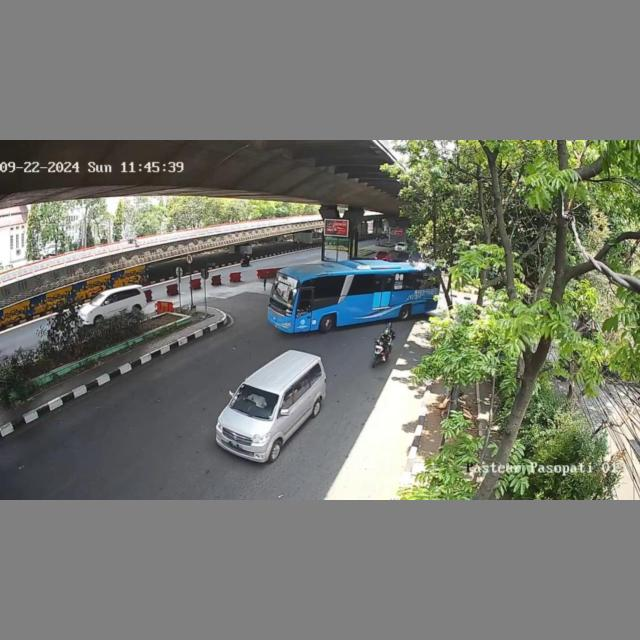windshield: (229, 384, 279, 421)
